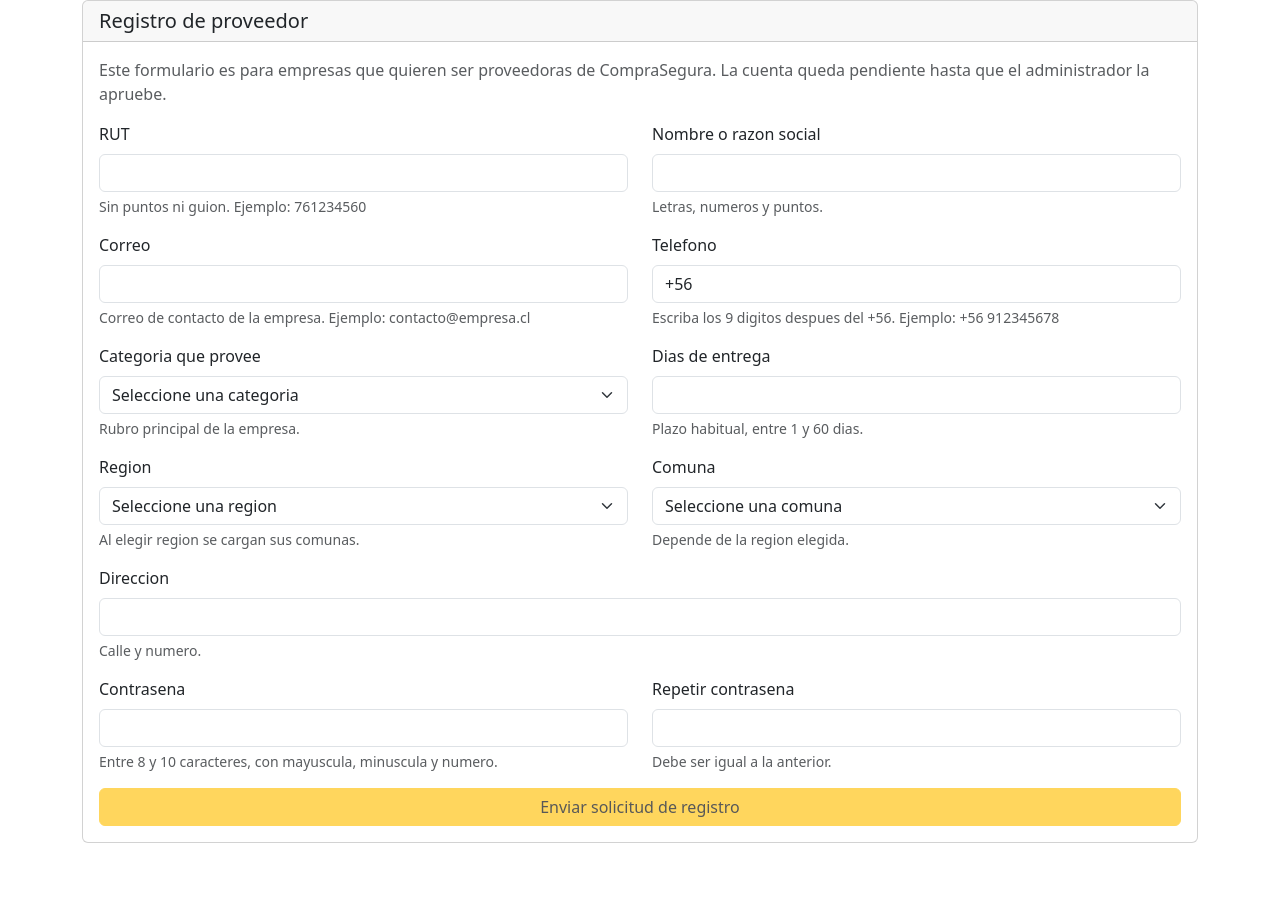
Test: Registro › deja solo numeros en el telefono y conserva el prefijo +56
Type "9ab1" into the field labelled "Telefono".
click(916, 284); type("9ab1")  # box [652,265,1181,303]
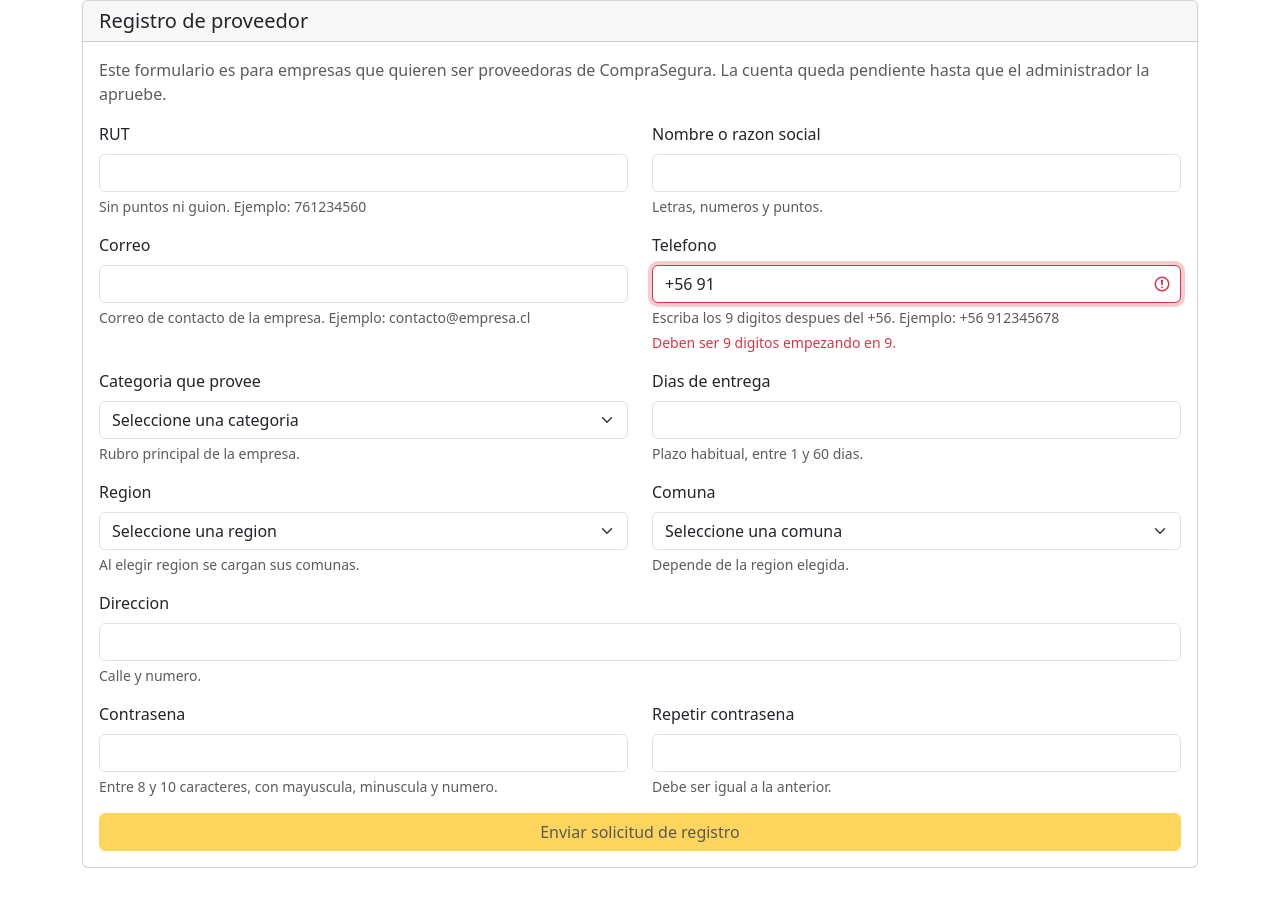
Expected: the field labelled "Telefono" holds "+56 91", [652,265,1181,303]
